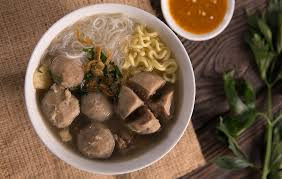Bakso besar: (117, 71, 174, 135)
Bakso sedang: (41, 88, 80, 129), (79, 123, 114, 158), (50, 53, 86, 87), (81, 92, 114, 120), (115, 131, 140, 154)
